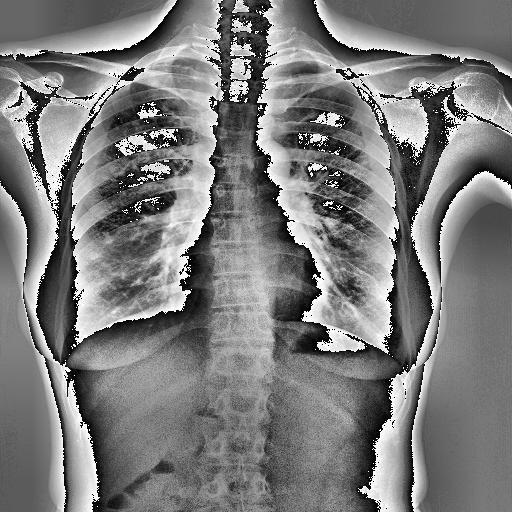11- Pleural thickening: (269, 60, 326, 75), (148, 56, 196, 68), (152, 56, 194, 64), (152, 55, 189, 64)
13- Pulmonary fibrosis: (88, 103, 162, 183)
7- Lung Opacity: (60, 238, 112, 310), (354, 232, 402, 302)
8- Nodule-Mass: (145, 275, 166, 293), (196, 250, 216, 266), (323, 210, 343, 226), (306, 147, 320, 161), (326, 213, 342, 225), (306, 108, 320, 120), (140, 214, 156, 224), (101, 232, 114, 244), (176, 224, 188, 234), (89, 250, 99, 260), (78, 260, 88, 270), (103, 236, 113, 244), (104, 236, 114, 244), (308, 112, 319, 118), (111, 180, 119, 188), (90, 252, 98, 260), (110, 180, 118, 188), (344, 240, 352, 246), (347, 170, 355, 176), (350, 144, 358, 150), (92, 160, 100, 165), (94, 160, 99, 164)
